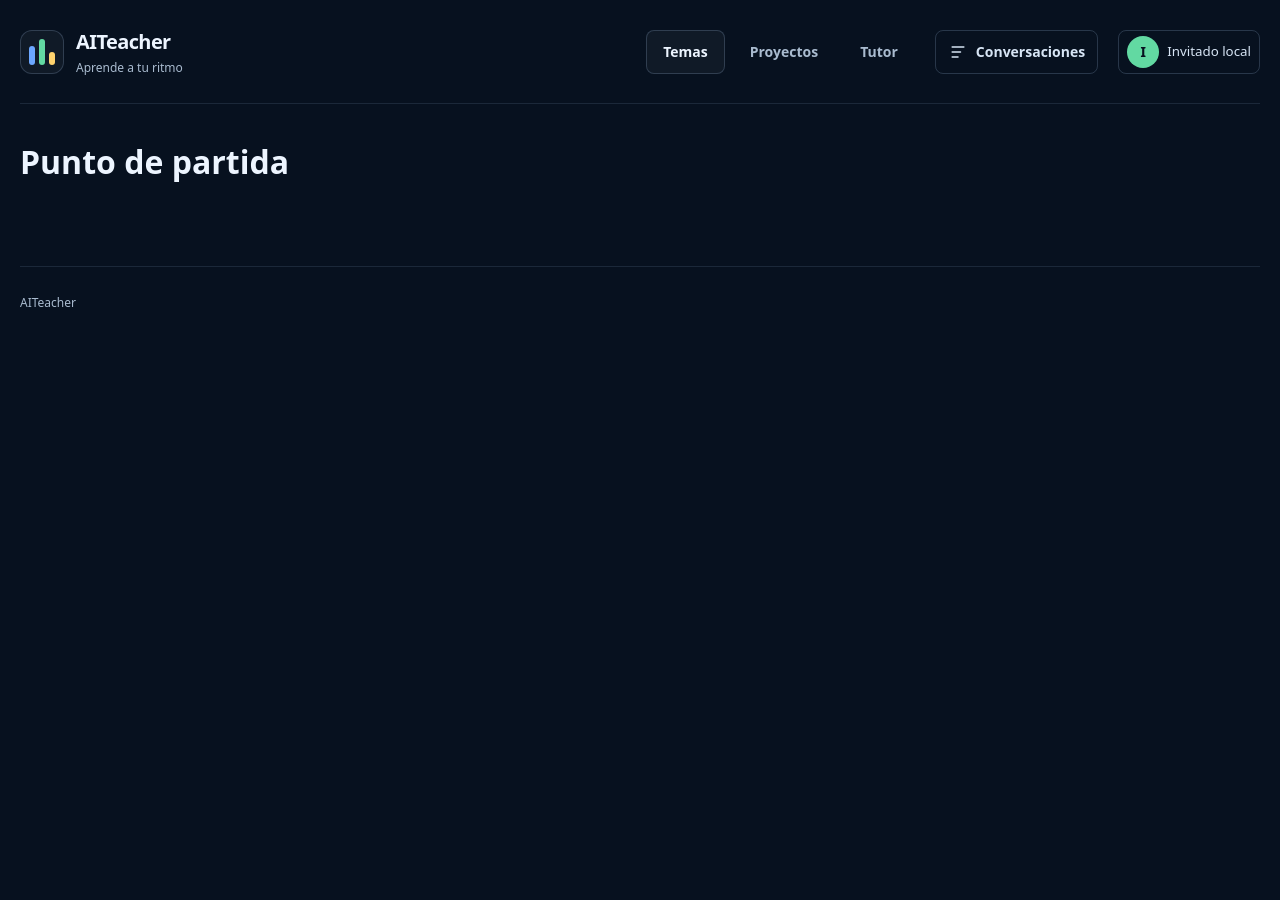
SessionDrawer › recupera un fallo de listado mediante reintento
Click the button "Conversaciones": (1016, 52) 935,30 -> 1098,74
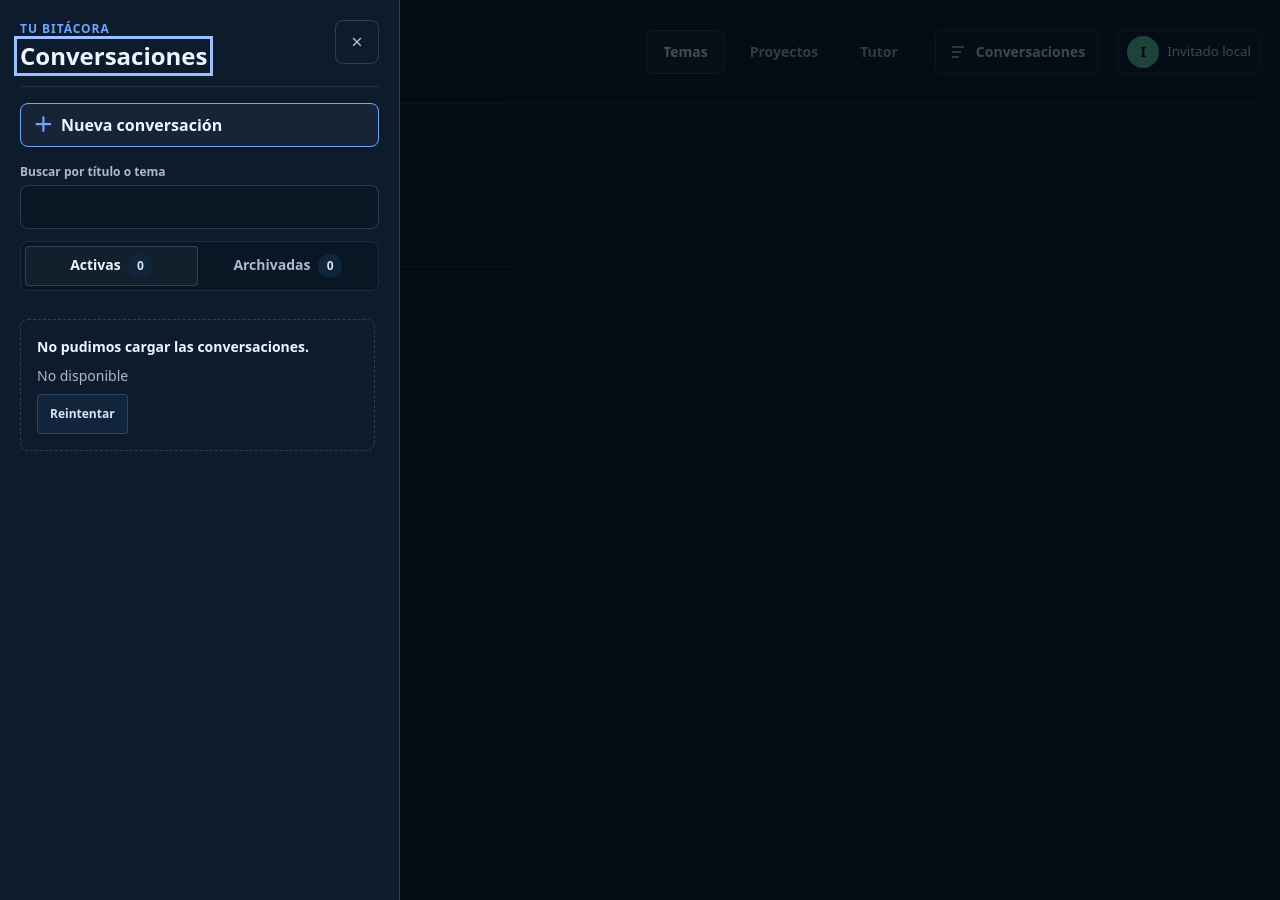
Check: the text "No pudimos cargar las conversaciones." is shown, box 37,337 -> 309,356
Click the button "Reintentar": (82, 414) 37,394 -> 128,434
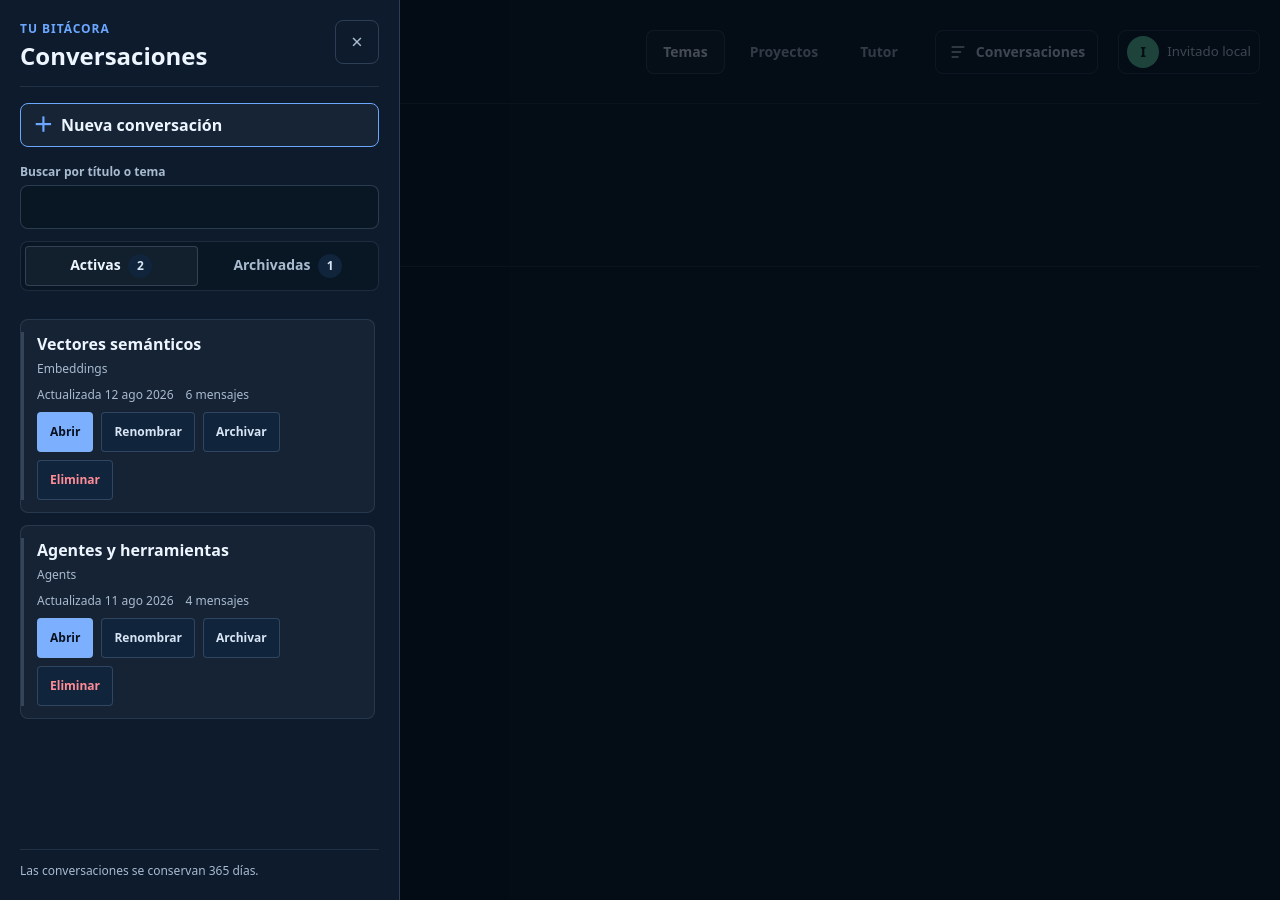
Check: the text "Vectores semánticos" is shown, box 37,332 -> 201,356
